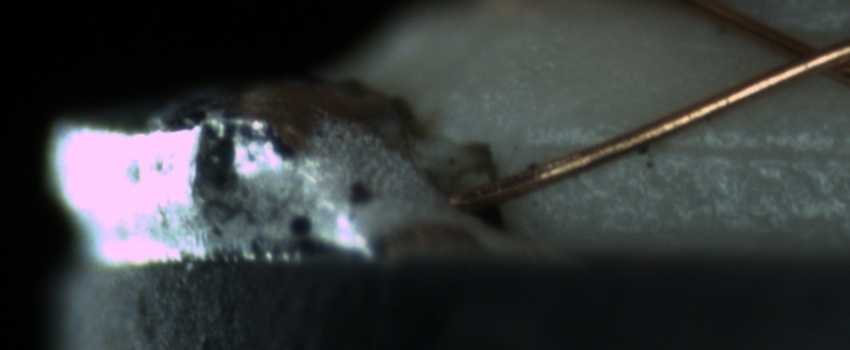CL: (758, 25, 849, 90)
DL: (550, 116, 850, 178)
